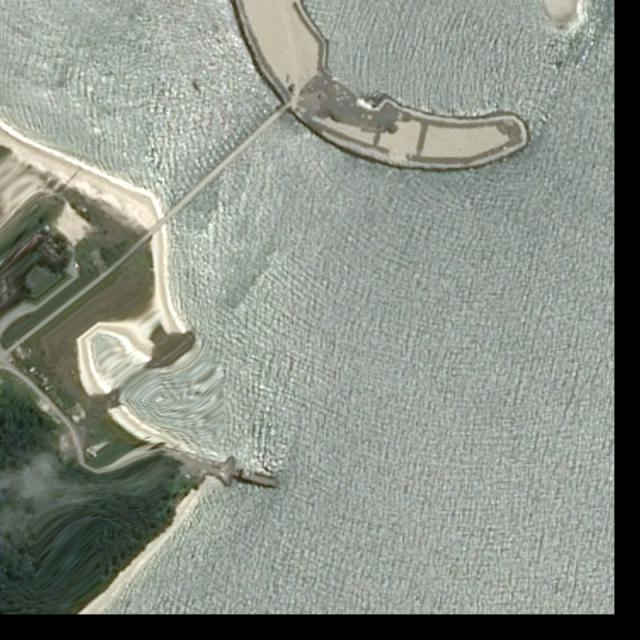ship: (193, 82, 199, 90)
